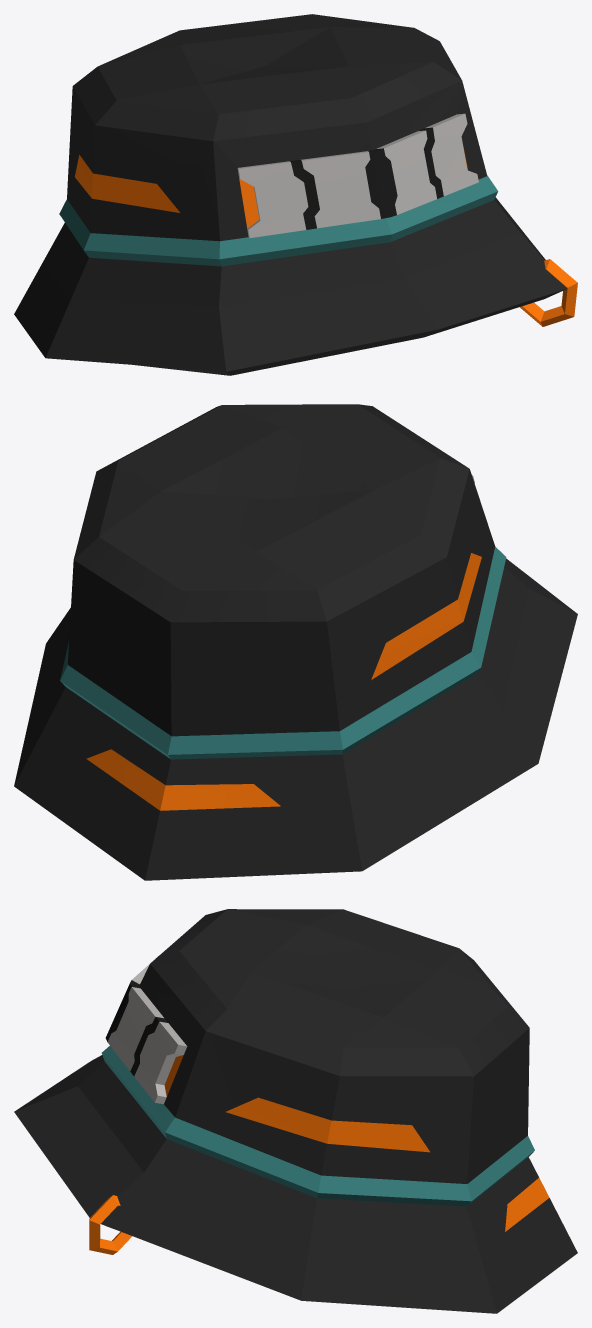
File: SM_Chr_Attach_Hat_02.fbx
3 renders of one model, top to bottom at view 1: azimuth 30°, elevation 25°; view 2: azimuth 150°, elevation 25°; view 3: azimuth 270°, elevation 25°, orthographic. The views are drawn at different scales.
Parts seen in each view (by area): view 1: SM_Chr_Attach_Hat_02; view 2: SM_Chr_Attach_Hat_02; view 3: SM_Chr_Attach_Hat_02.
Part boxes in pixels (bbox=[...]): SM_Chr_Attach_Hat_02: bbox=[14, 14, 577, 375]; SM_Chr_Attach_Hat_02: bbox=[14, 404, 577, 880]; SM_Chr_Attach_Hat_02: bbox=[14, 909, 577, 1313].
Bounding box in the file's own units: 39.43 × 24.58 × 41.61.
